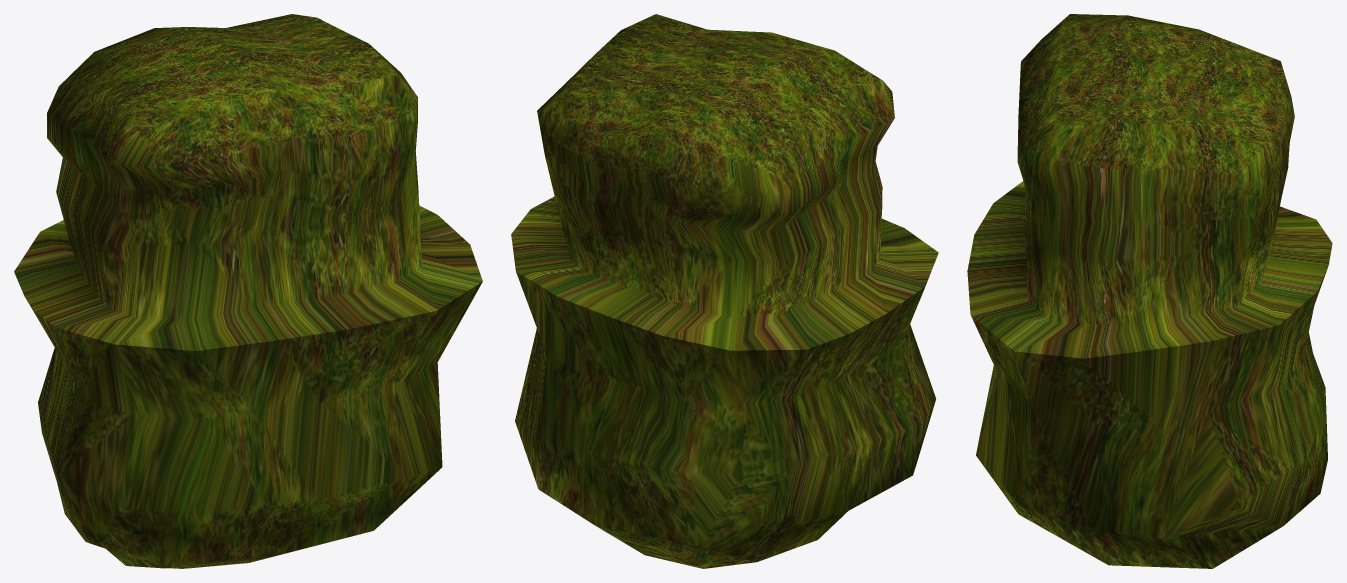
File: LVL_ROAST_MUTTON_ROCK_LEDGE02.fbx
The picture shows the model from 3 angles, left to right: view 1: azimuth 30°, elevation 25°; view 2: azimuth 150°, elevation 25°; view 3: azimuth 270°, elevation 25°; orthographic projection. The views are drawn at different scales.
Parts seen in each view (by area): view 1: LVL_ROAST_MUTTON_ROCK_LEDGE02; view 2: LVL_ROAST_MUTTON_ROCK_LEDGE02; view 3: LVL_ROAST_MUTTON_ROCK_LEDGE02.
Boxes of the visible parts, x1,y1,x2,y2 form: LVL_ROAST_MUTTON_ROCK_LEDGE02: (14,14,482,568); LVL_ROAST_MUTTON_ROCK_LEDGE02: (511,14,938,568); LVL_ROAST_MUTTON_ROCK_LEDGE02: (967,14,1332,568).
Bounding box in the file's own units: 89231 × 108716 × 74033.
1 material, 1 textured.
